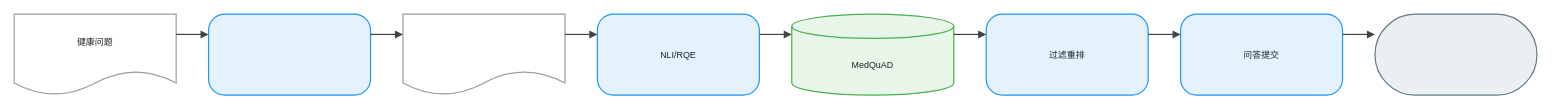
Image size: 1552x110. Some labels were removed from this diagram. Each missing label, with the centre of its shape:
CHiQA: (289,54)
人工答案: (483,54)
准确率: (1455,54)
